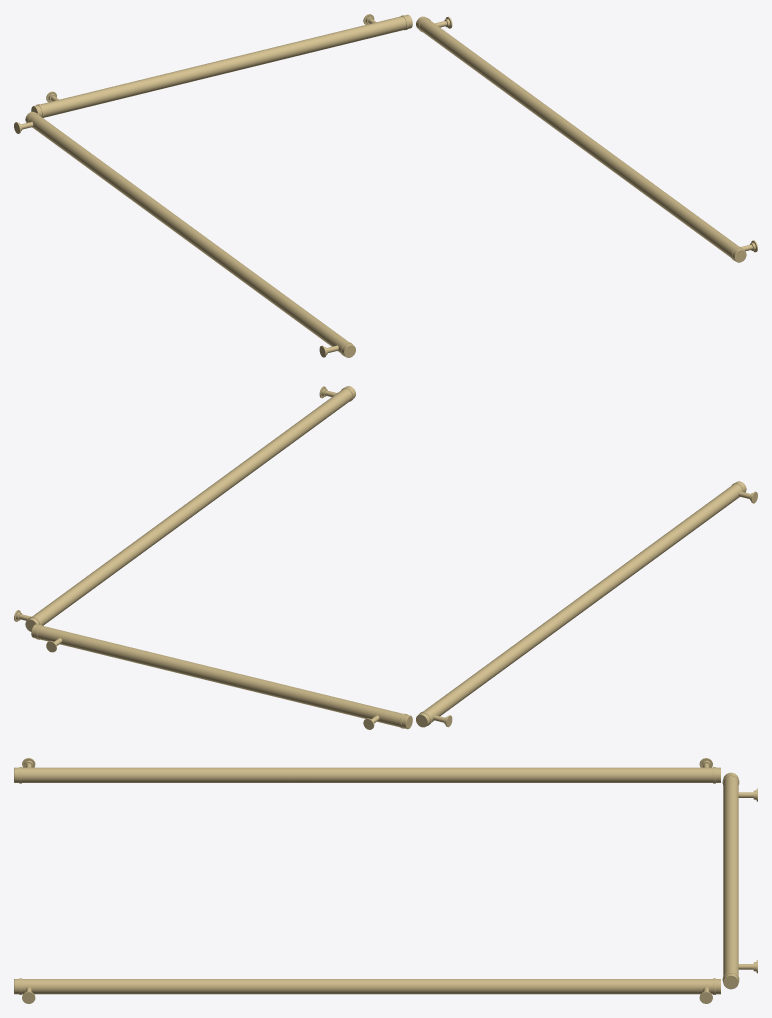
Rendered from lift_handrails.glb.
3 renders of one model, top to bottom at view 1: azimuth 30°, elevation 25°; view 2: azimuth 150°, elevation 25°; view 3: azimuth 270°, elevation 25°, orthographic. The views are drawn at different scales.
Visible parts, largest first — view 1: Grip1, Grip0, Grip2; view 2: Grip0, Grip1, Grip2; view 3: Grip0, Grip1, Grip2.
Boxes of the visible parts, x1,y1,x2,y2 form: Grip1: [416, 16, 746, 262]; Grip0: [25, 111, 355, 357]; Grip2: [31, 14, 412, 117]; Grip0: [416, 481, 746, 727]; Grip1: [25, 386, 355, 631]; Grip2: [31, 624, 412, 729]; Grip0: [14, 767, 720, 782]; Grip1: [14, 979, 720, 994]; Grip2: [723, 772, 738, 989].
Bounding box in the file's own units: 1.5 × 0.045 × 2.01.
